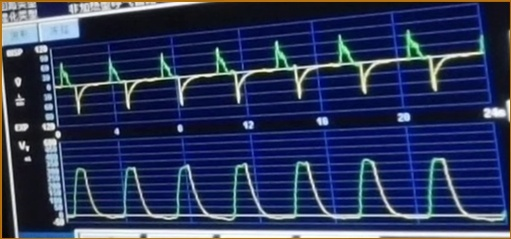Accumulation Flow: (56, 28, 478, 116)
Volume: (66, 151, 496, 224)
